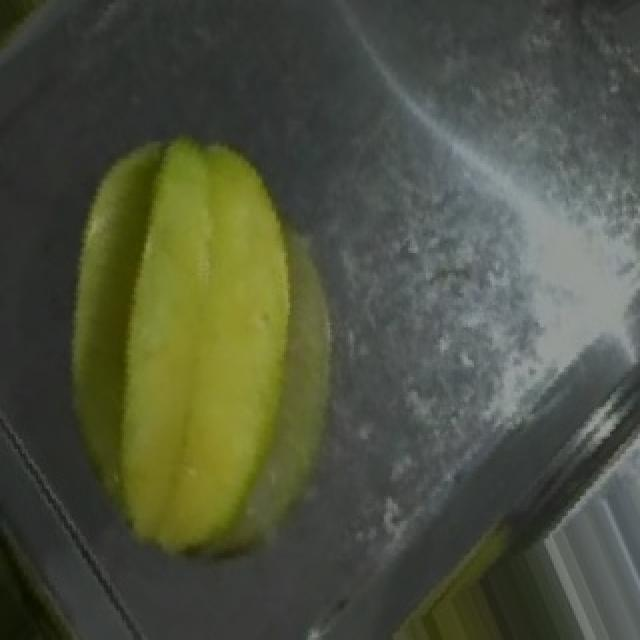fruit: (46, 112, 408, 560)
